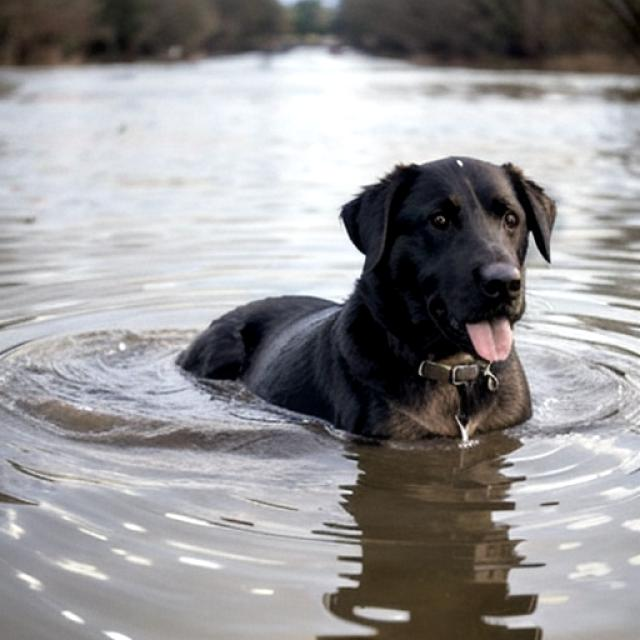dog: (167, 145, 566, 464)
